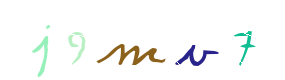7: (204, 0, 284, 80)
9: (93, 0, 173, 80)
J: (56, 0, 136, 80)
M: (102, 0, 182, 80)
V: (155, 0, 235, 80)
